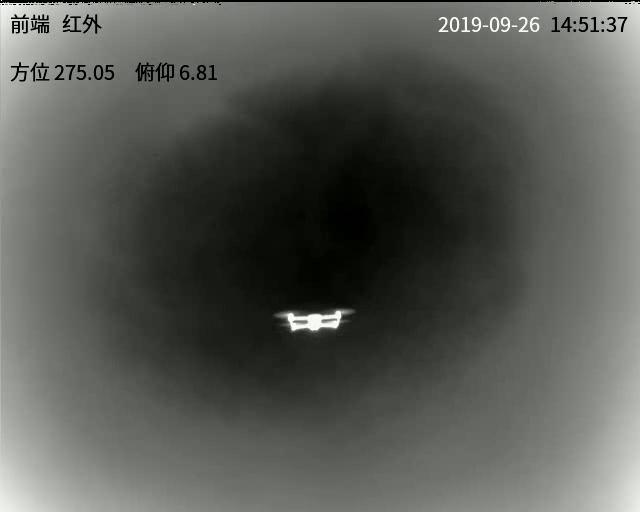DRONE: (280, 307, 349, 334)
